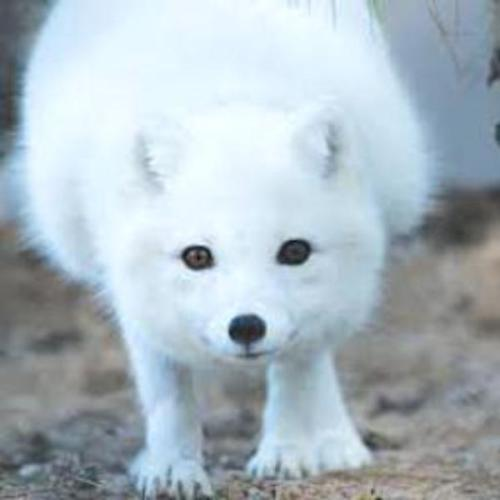arctic_fox-endangered: (24, 0, 432, 500)
